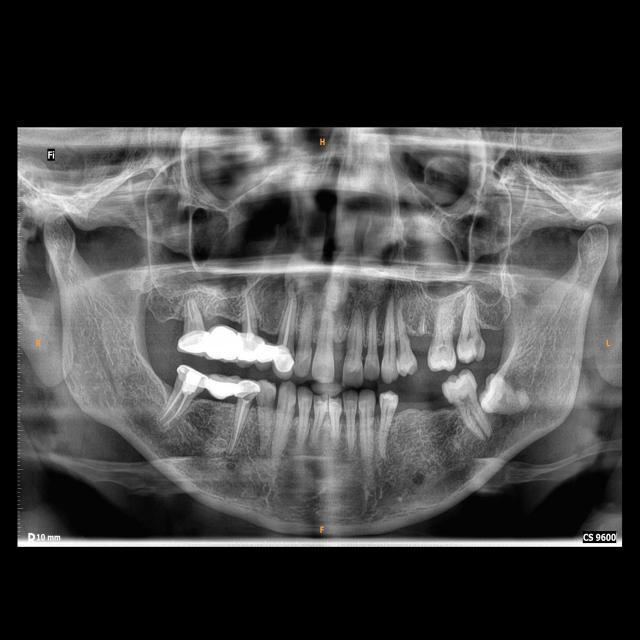dentin-curugu: (464, 337, 488, 360)
kanal-tedavisi: (156, 391, 184, 424), (279, 299, 298, 346), (182, 294, 205, 331), (231, 401, 246, 450), (242, 292, 258, 336)
kaplama: (174, 330, 212, 356), (178, 366, 207, 392), (275, 344, 296, 378), (239, 334, 261, 364), (234, 378, 260, 401)
kopru: (200, 323, 249, 365), (194, 368, 244, 403), (245, 332, 288, 372)
